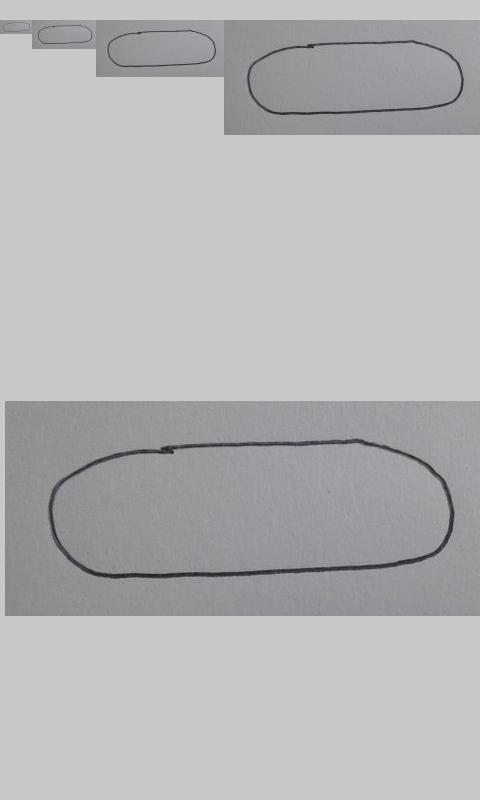chip: (47, 438, 456, 580), (247, 39, 464, 116), (107, 29, 217, 68), (37, 24, 93, 45), (3, 22, 31, 33)
